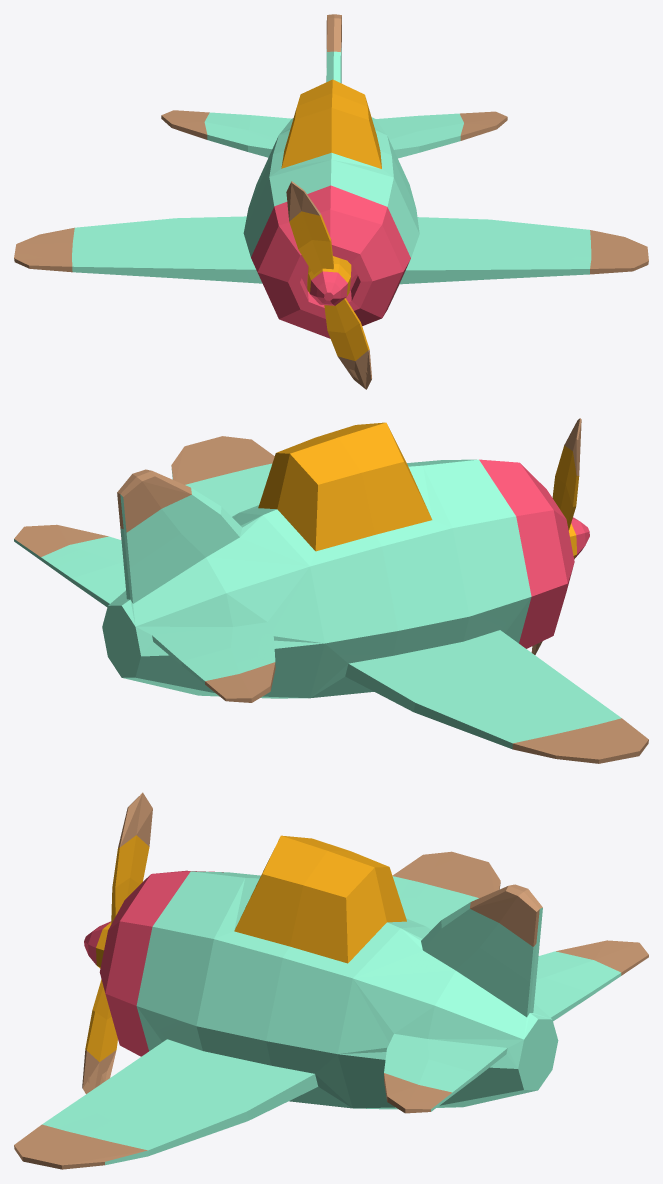
The model's file is ToyObject_034.fbx.
3 renders of one model, top to bottom at view 1: azimuth 30°, elevation 25°; view 2: azimuth 150°, elevation 25°; view 3: azimuth 270°, elevation 25°, orthographic. The views are drawn at different scales.
Parts seen in each view (by area): view 1: Object.075; view 2: Object.075; view 3: Object.075.
Part boxes in pixels (x1,y1,x2,y2): Object.075: (14, 14, 648, 389); Object.075: (14, 418, 648, 763); Object.075: (14, 792, 648, 1169).
Size of the model in its own units: 0.2488 by 0.1106 by 0.2124.
